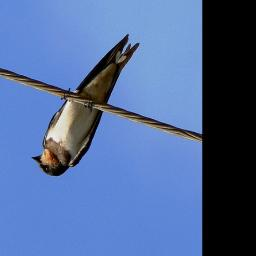Swallow: (27, 14, 142, 194)
